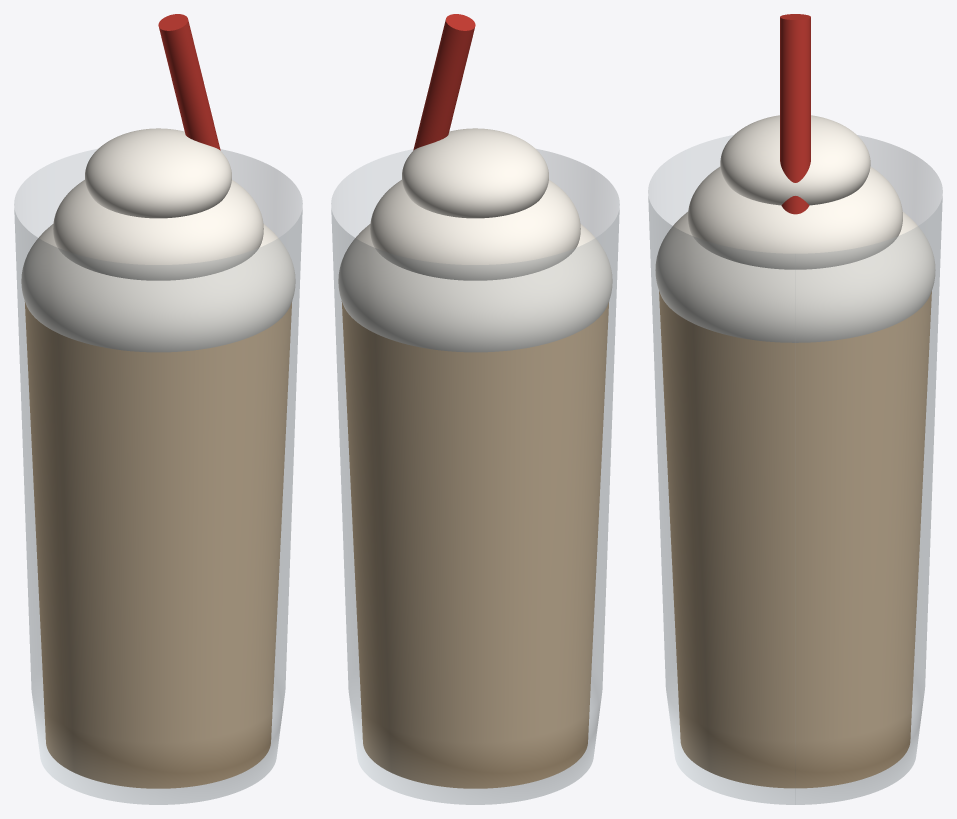
File: milkshake-hero.glb
The picture shows the model from 3 angles, left to right: view 1: azimuth 30°, elevation 25°; view 2: azimuth 150°, elevation 25°; view 3: azimuth 270°, elevation 25°; orthographic projection. The views are drawn at different scales.
Size of the model in its own units: 0.076 by 0.2127 by 0.076.
